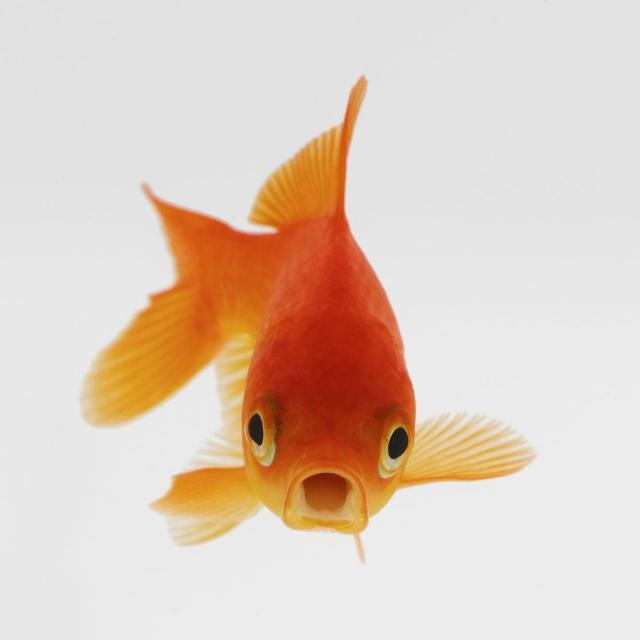GoldFish: (80, 70, 546, 566)
